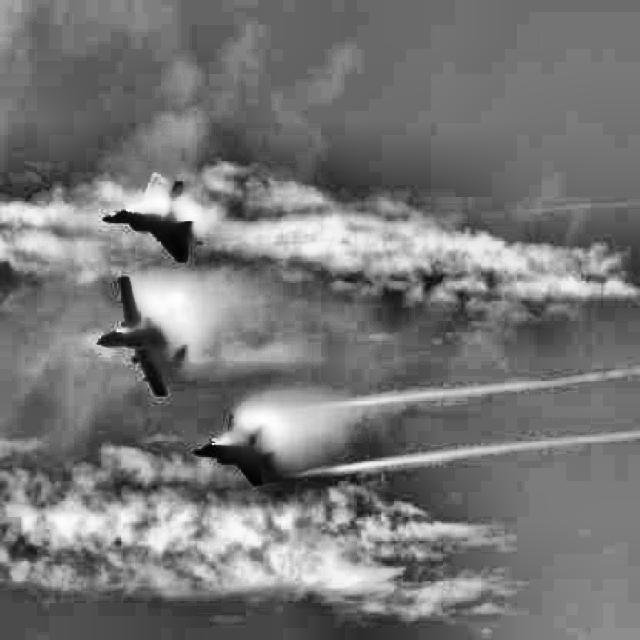A10: (96, 275, 190, 397)
F22: (102, 172, 204, 262)
F35: (192, 414, 277, 486)
